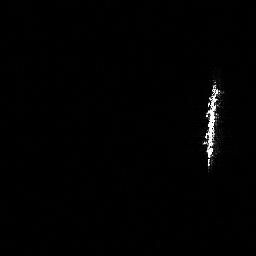ship: (199, 76, 226, 171)
